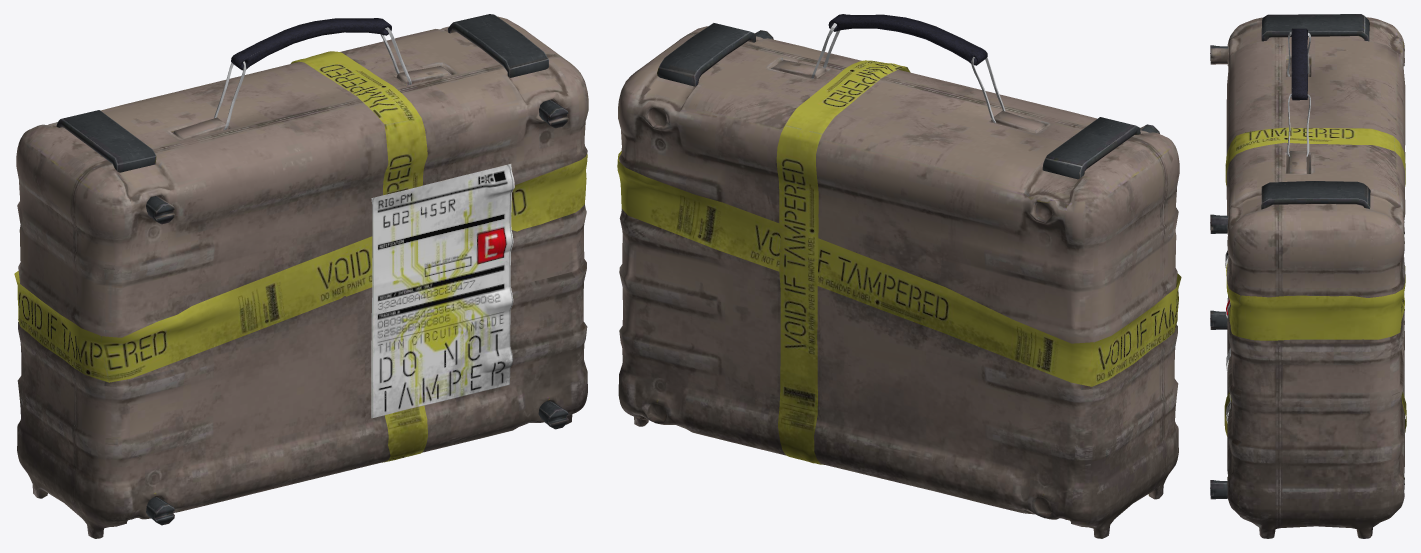
The model's file is briefcase.glb.
3 views of the same model, side by side, from view 1: azimuth 30°, elevation 25°; view 2: azimuth 150°, elevation 25°; view 3: azimuth 270°, elevation 25° (orthographic). The views are drawn at different scales.
Parts seen in each view (by area): view 1: Body_lp, Sticker_lp, Sc_O_lp, Sc_V_lp, Lock_2_lp, Lock_1_lp, Handle_lp, Vite_lp, Mb_lp; view 2: Body_lp, Sc_O_lp, Sc_V_lp, Lock_2_lp, Lock_1_lp, Handle_lp, Mb_lp; view 3: Body_lp, Sc_O_lp, Sc_V_lp, Lock_2_lp, Lock_1_lp, Vite_lp, Handle_lp, Mb_lp, Sticker_lp.
Boxes of the visible parts, <box> form: Body_lp: <box>16,16,588,538</box>; Sticker_lp: <box>371,164,514,418</box>; Sc_O_lp: <box>14,154,587,382</box>; Sc_V_lp: <box>290,51,427,462</box>; Lock_2_lp: <box>448,14,548,77</box>; Lock_1_lp: <box>56,110,156,172</box>; Handle_lp: <box>231,18,391,70</box>; Vite_lp: <box>146,100,568,525</box>; Mb_lp: <box>214,27,411,130</box>; Body_lp: <box>618,26,1179,538</box>; Sc_O_lp: <box>617,151,1181,386</box>; Sc_V_lp: <box>776,60,910,464</box>; Lock_2_lp: <box>657,23,755,86</box>; Lock_1_lp: <box>1042,117,1140,179</box>; Handle_lp: <box>828,14,987,65</box>; Mb_lp: <box>811,23,1005,123</box>; Body_lp: <box>1226,17,1405,538</box>; Sc_O_lp: <box>1225,152,1405,340</box>; Sc_V_lp: <box>1224,127,1406,436</box>; Lock_2_lp: <box>1261,181,1370,209</box>; Lock_1_lp: <box>1261,14,1369,41</box>; Vite_lp: <box>1210,45,1228,499</box>; Handle_lp: <box>1291,28,1307,100</box>; Mb_lp: <box>1287,32,1310,156</box>; Sticker_lp: <box>1225,250,1230,423</box>.
Bounding box in the file's own units: 144 × 121 × 55.34.
2 materials, 2 textured.
